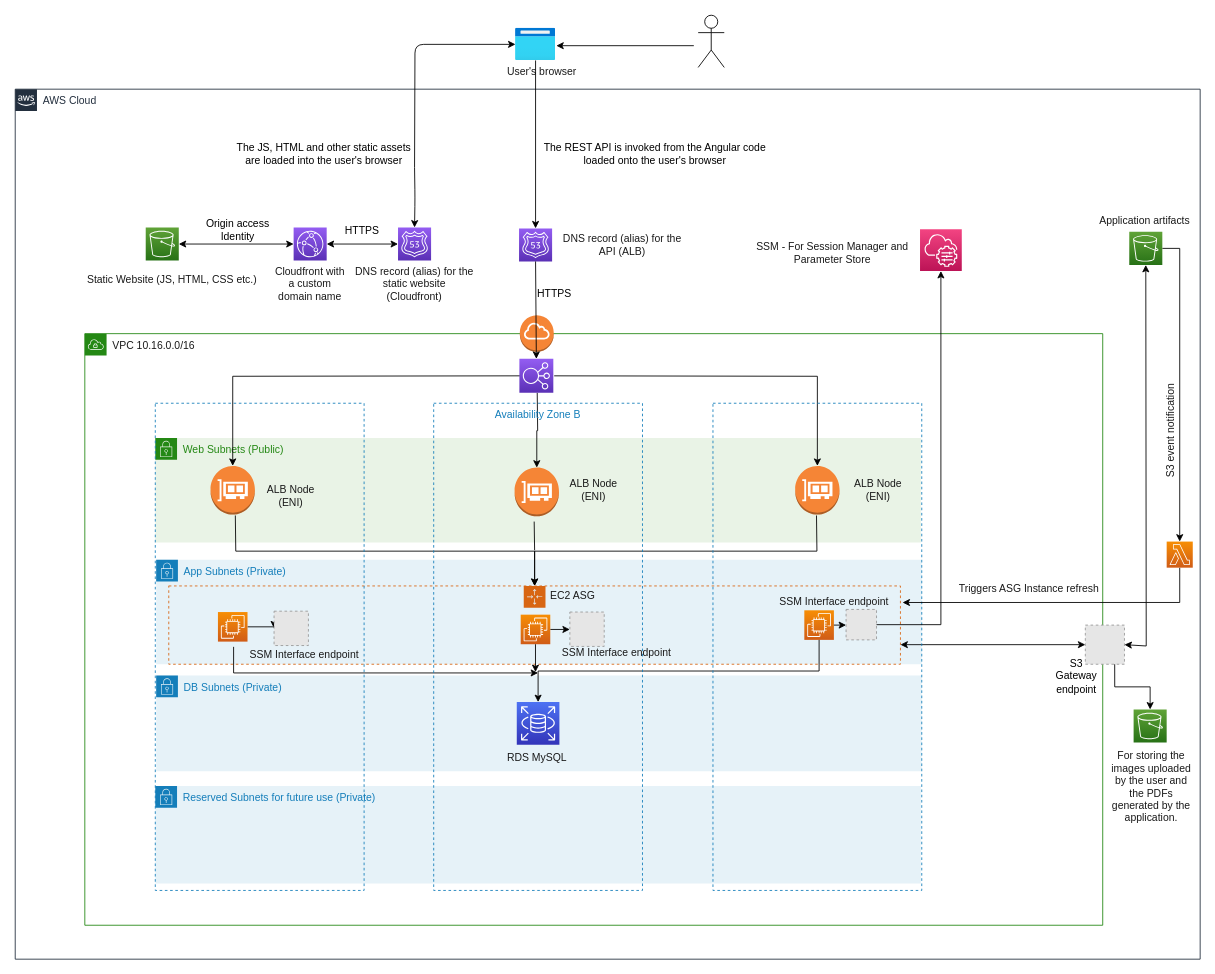
This 1215x974 diagram has some shape labels left out. Grey dashed boxes stand in for pictures. The shapes that lost their labels are listed below. From the top down, each one's box as (x1, y1, x2, y2) in pixels, then its label:
(697, 14, 724, 67): User
(154, 402, 364, 890): Availability Zone A
(712, 402, 922, 890): Availability Zone C
